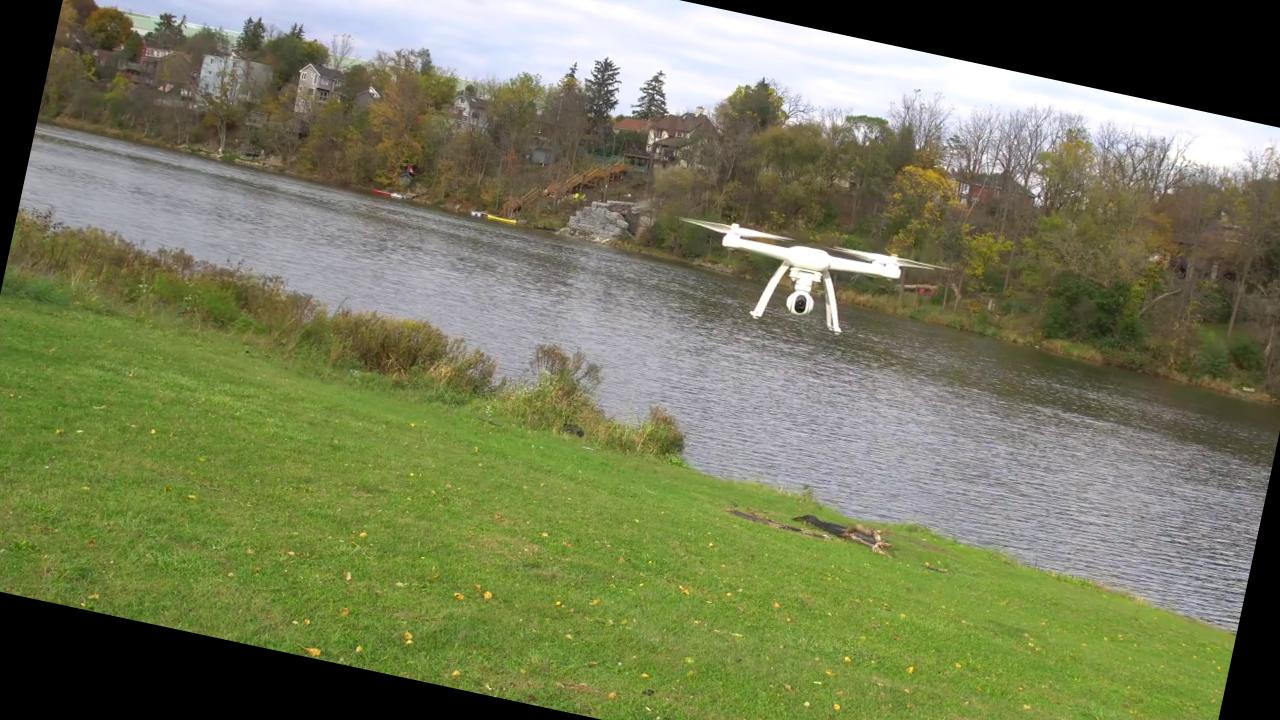drone: (684, 204, 950, 330)
